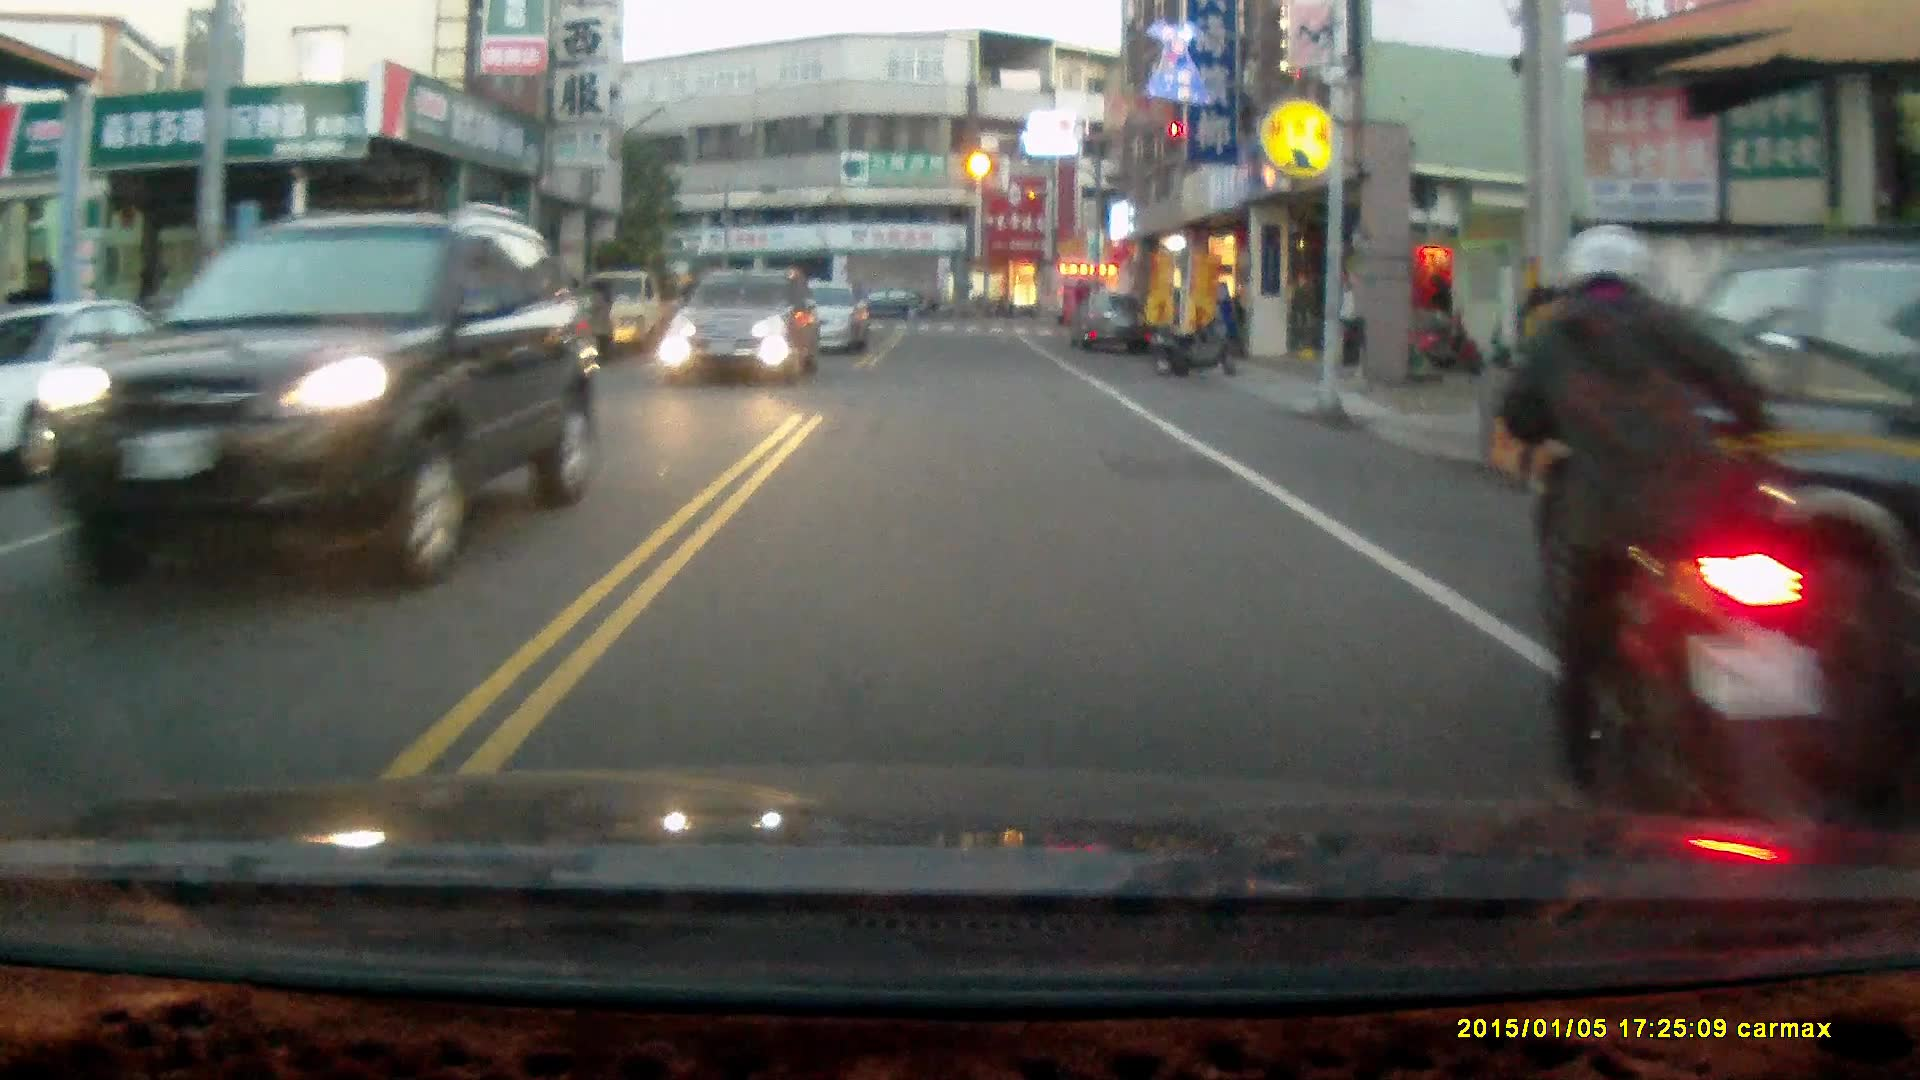pedestrian: (587, 278, 614, 367)
rider: (1503, 226, 1830, 830)
vehicle: (24, 206, 605, 599), (1555, 246, 1920, 743), (664, 268, 817, 390), (757, 280, 872, 358), (1070, 290, 1149, 357), (822, 284, 940, 323)
